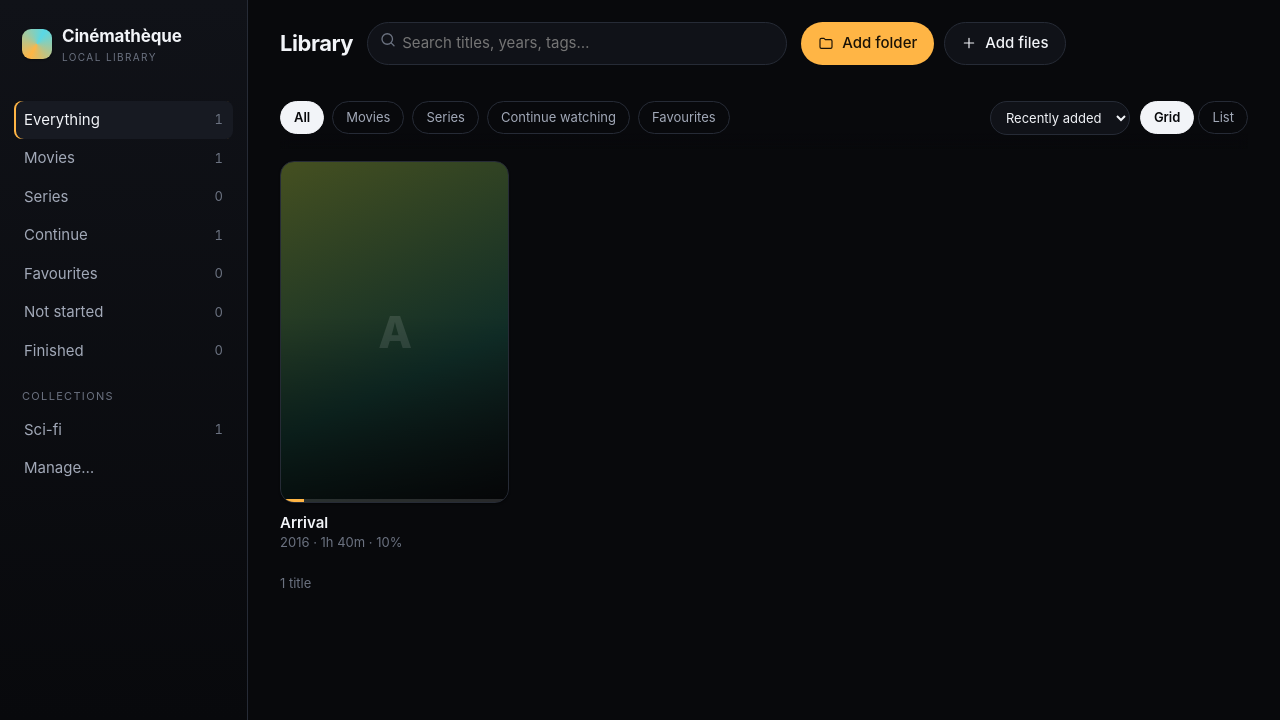
Test: app shell › searches by name
Check: the button named "open arrival" is shown, box [280,160,508,503]
Type "arr" into the search field named "Search library".
click(577, 43); type("arr")  # box [367,22,787,64]
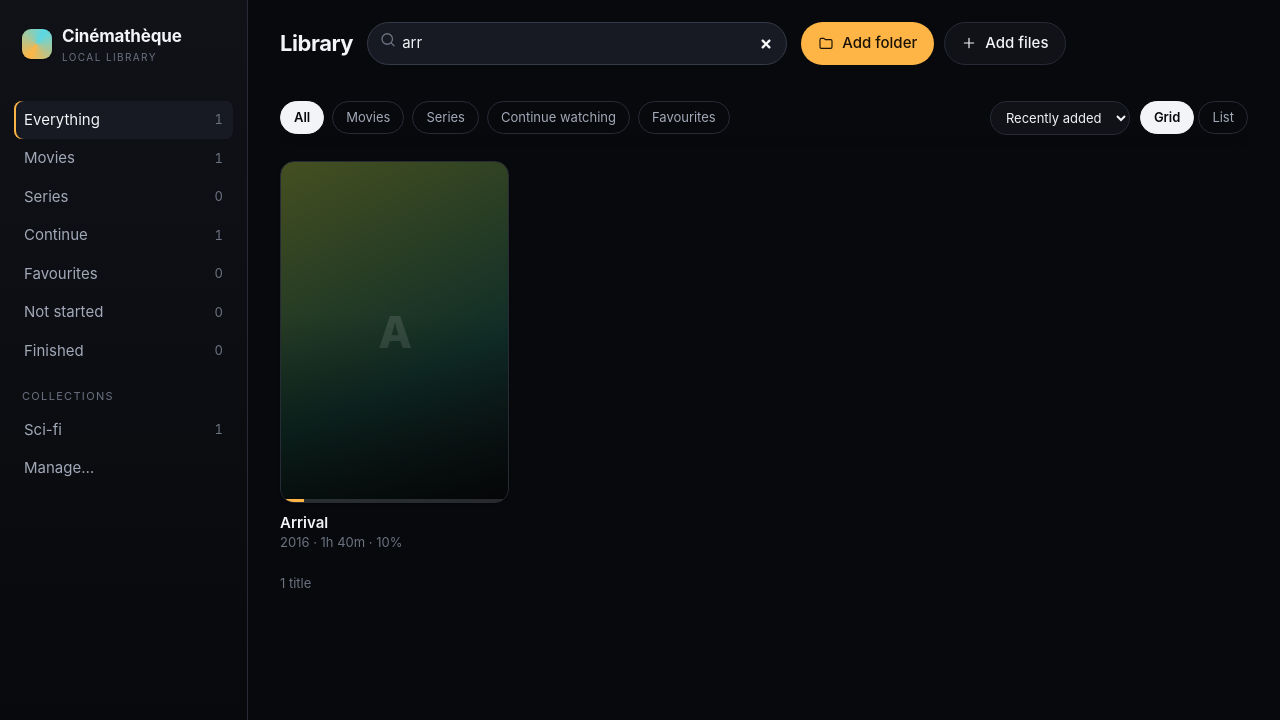
Check: the button named "open arrival" is shown, box [280,160,508,503]
Replace the text in the search field named "Search library" with "zzz" at x=577, y=43, box [367,22,787,64]
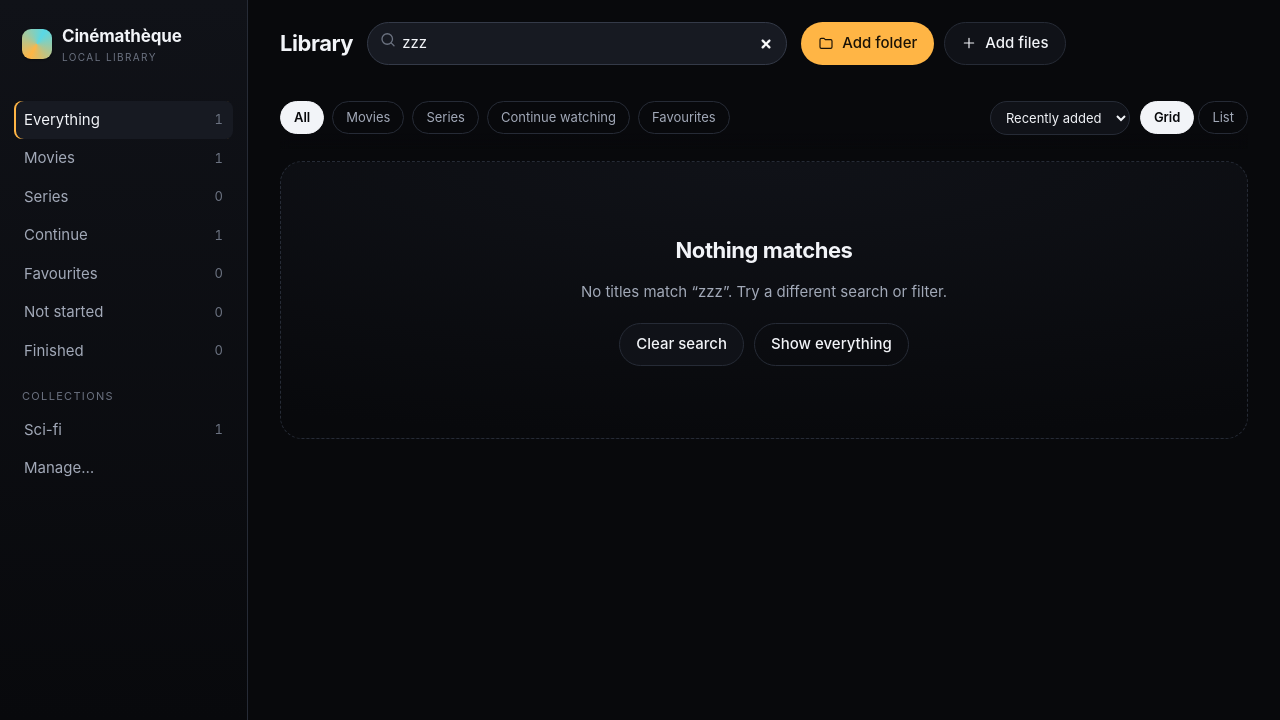
Check: the heading "Nothing matches" is shown, box [676,234,852,266]
